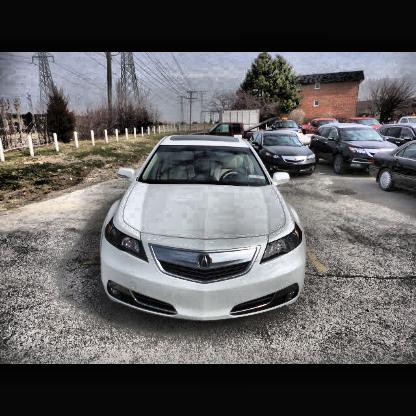Acura TL Sedan 2012: (96, 135, 306, 330)
